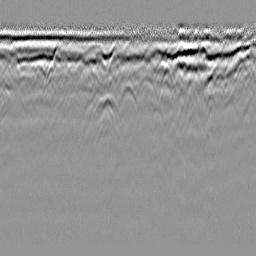cavity: (116, 79, 138, 114)
